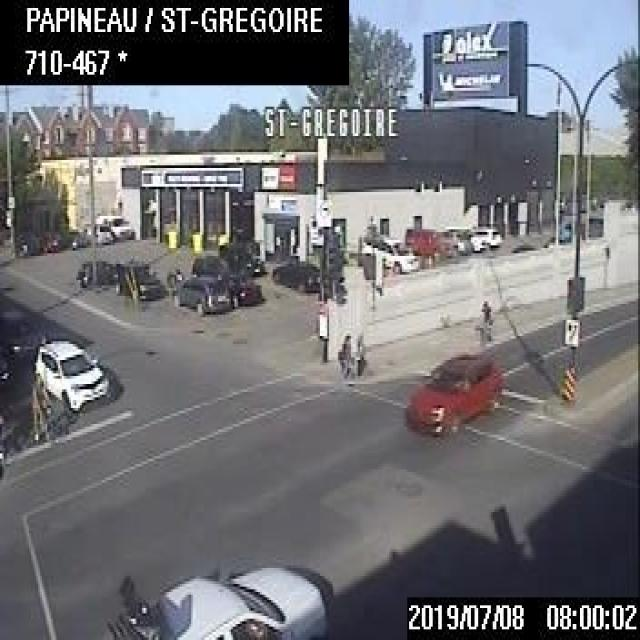cyclist: (23, 369, 57, 448)
pedestrian: (335, 328, 352, 379), (352, 329, 368, 381), (476, 296, 493, 341)
vehicle: (100, 555, 333, 637), (402, 346, 500, 434), (29, 333, 109, 408), (189, 252, 264, 308), (170, 270, 232, 320), (112, 257, 170, 305), (358, 228, 417, 273), (404, 224, 452, 264), (270, 254, 318, 293), (218, 240, 264, 274), (94, 211, 135, 242), (76, 259, 114, 285), (79, 219, 113, 247), (442, 225, 472, 256), (469, 224, 499, 248)
